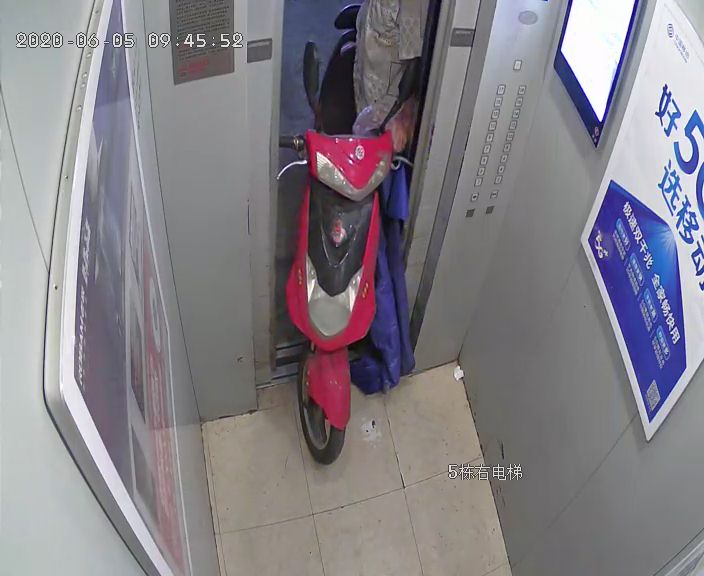Electric-bicycle: (272, 1, 413, 471)
